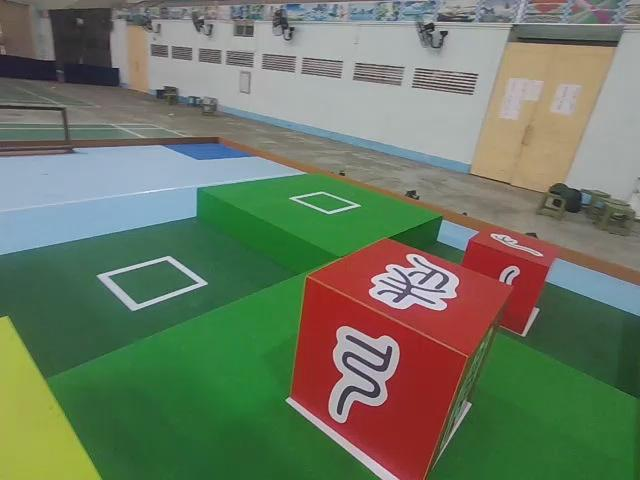R2 Fake: (289, 234, 515, 480)
